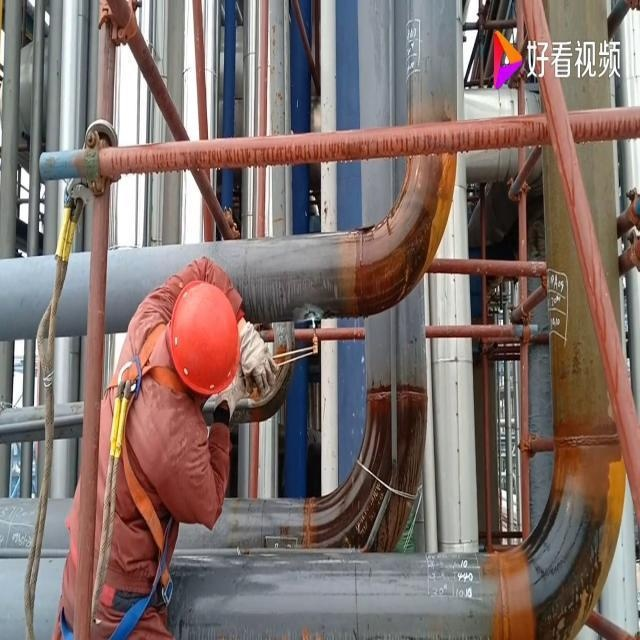Arnes_seguridad: (98, 299, 193, 616)
